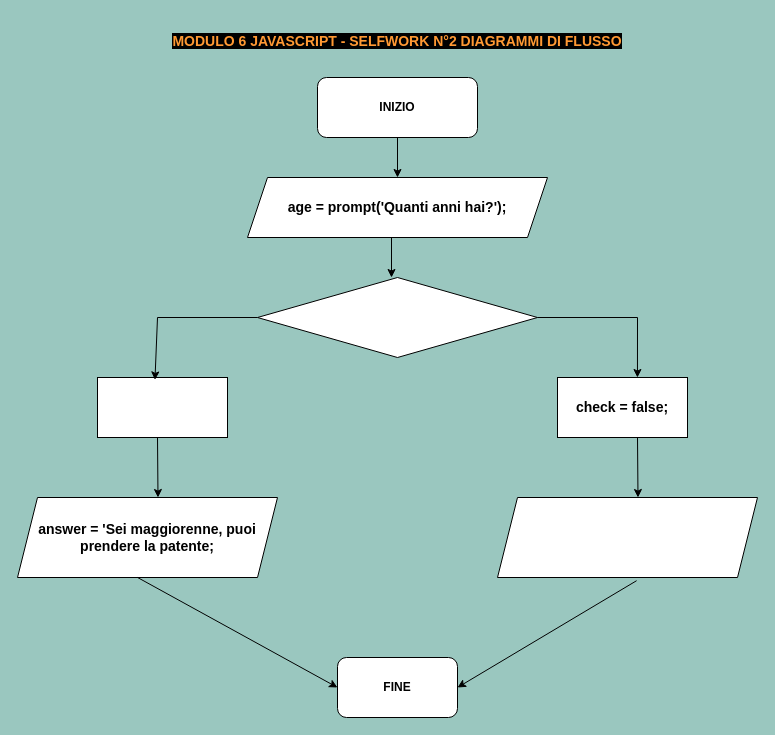
Image size: 775x735. Some labels were removed from this diagram. Each missing label, with the centre of its shape:
"age >= 18" belongs at point 397,317.
"answer = 'Sei minorenne, non puoi prendere la patente;" belongs at point 627,537.
"check = true;" belongs at point 162,407.
